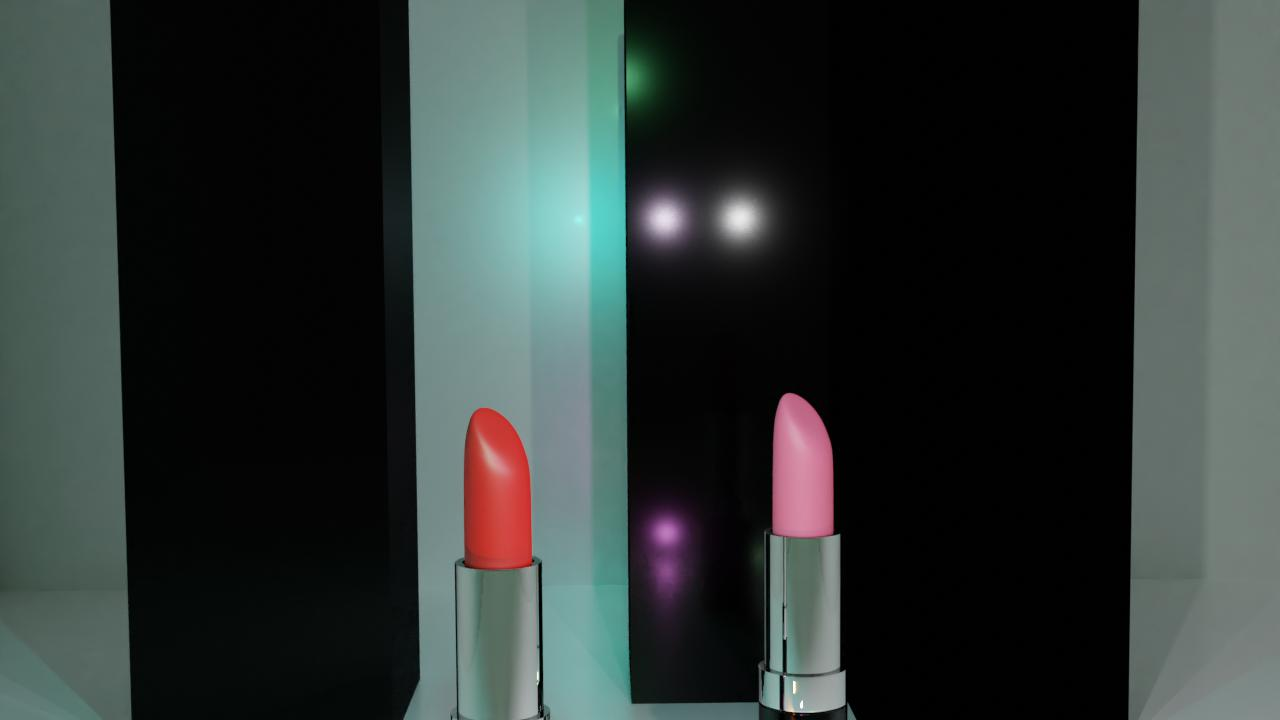CLASSIFIER_NAME: (449, 401, 553, 720), (757, 387, 849, 720)
